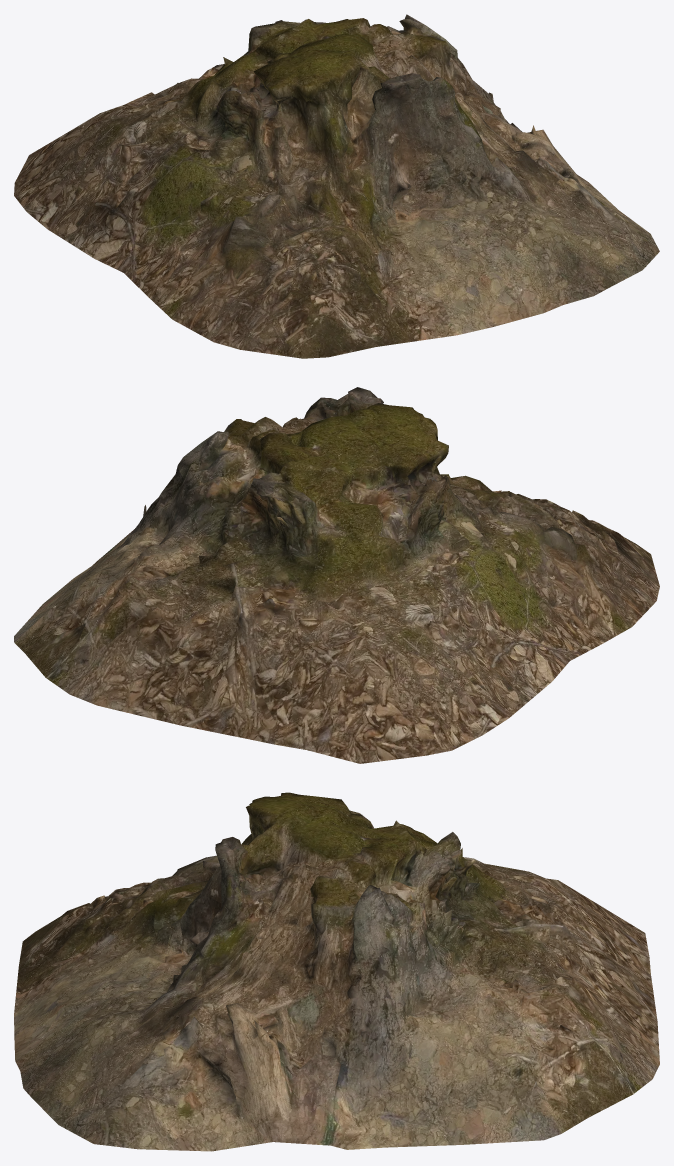
Rendered from tree_stump_01.glb.
3 views of the same model, one above another, from view 1: azimuth 30°, elevation 25°; view 2: azimuth 150°, elevation 25°; view 3: azimuth 270°, elevation 25° (orthographic). The views are drawn at different scales.
Visible parts, largest first — view 1: tree_stump_01; view 2: tree_stump_01; view 3: tree_stump_01.
Part boxes in pixels (left/top/right/bottom): tree_stump_01: left=14, top=14, right=659, bottom=358; tree_stump_01: left=14, top=387, right=659, bottom=763; tree_stump_01: left=14, top=792, right=659, bottom=1151.
Bounding box in the file's own units: 1.43 × 0.57 × 1.59.
Materials: 1 (1 with a texture image).
